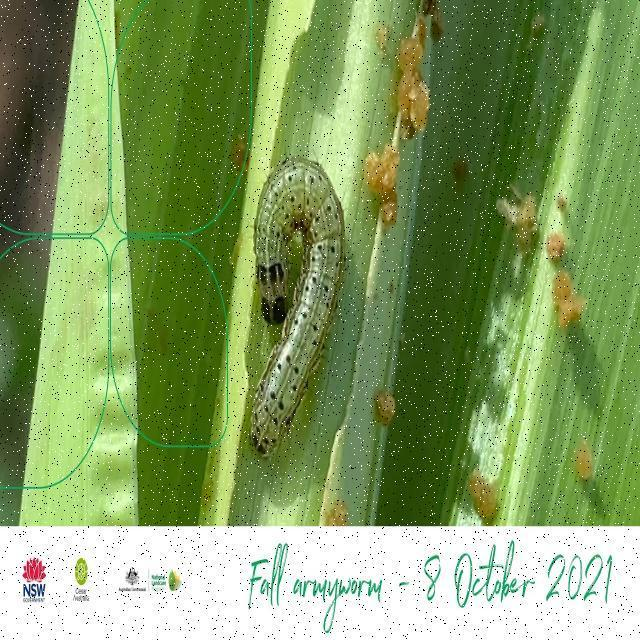army worm: (216, 126, 371, 490)
